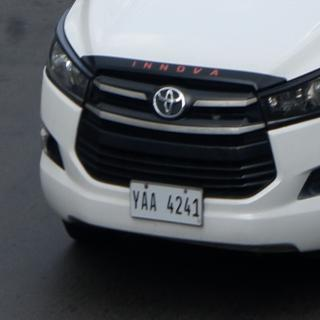license: (131, 182, 204, 227)
